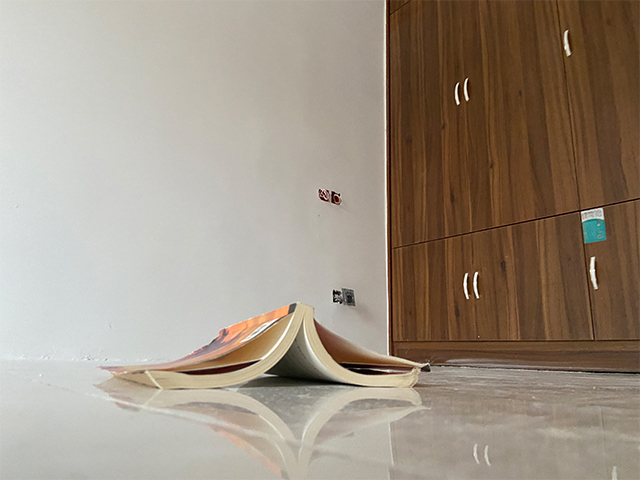book: (96, 300, 433, 392)
cabinet: (383, 1, 640, 377)
